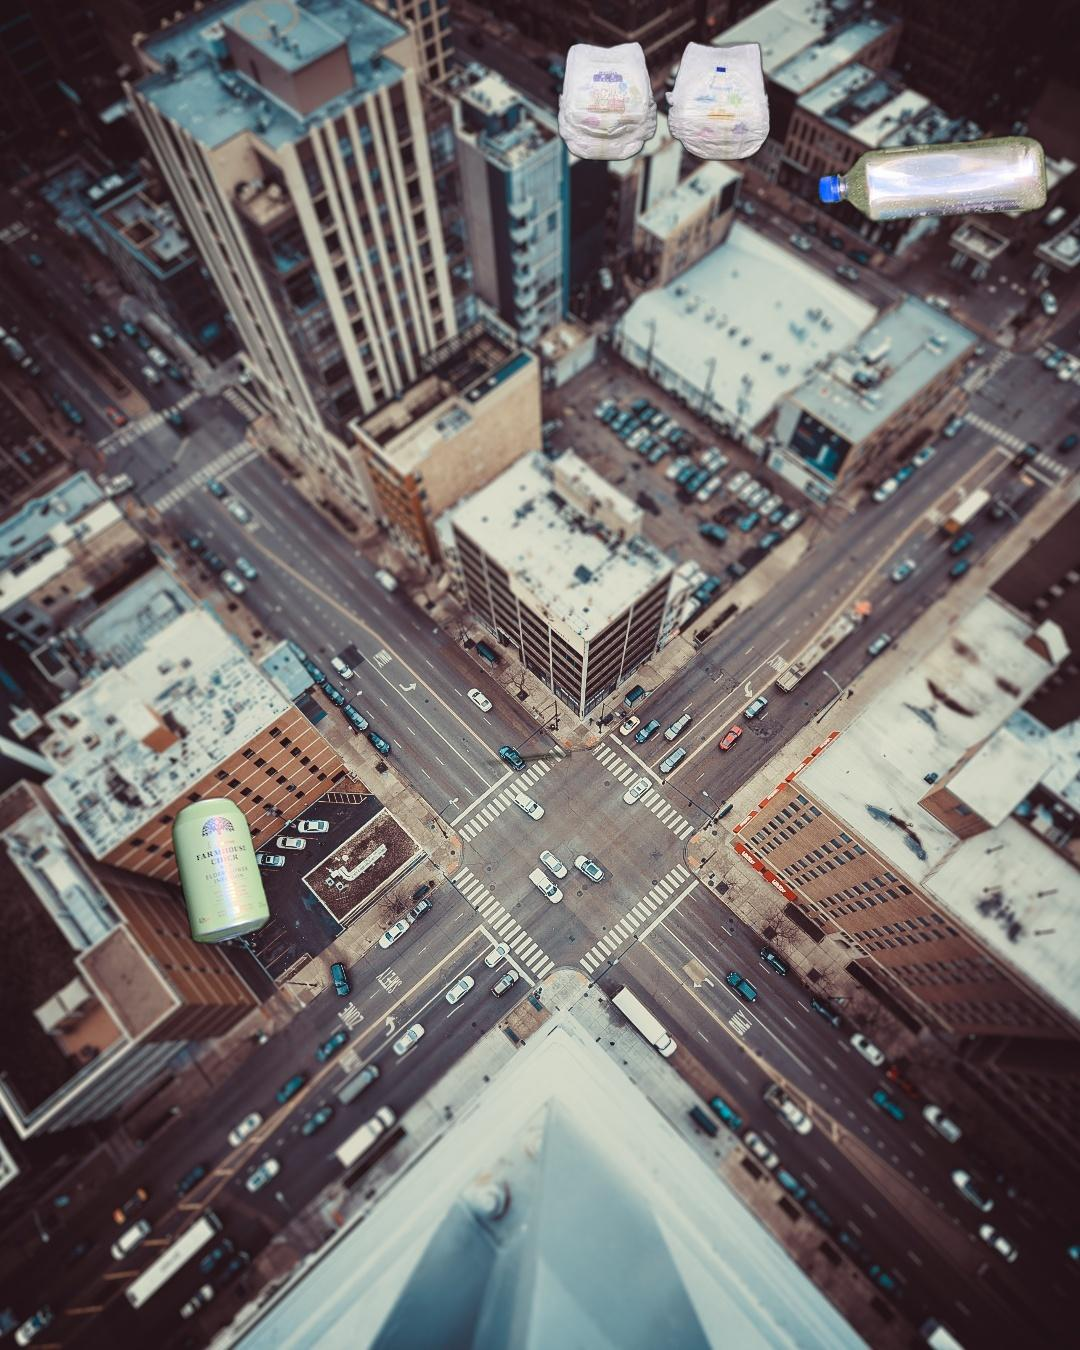metal-cans: (168, 744, 572, 949)
plastic-bottles: (814, 129, 1051, 229)
trash: (554, 37, 776, 164)
